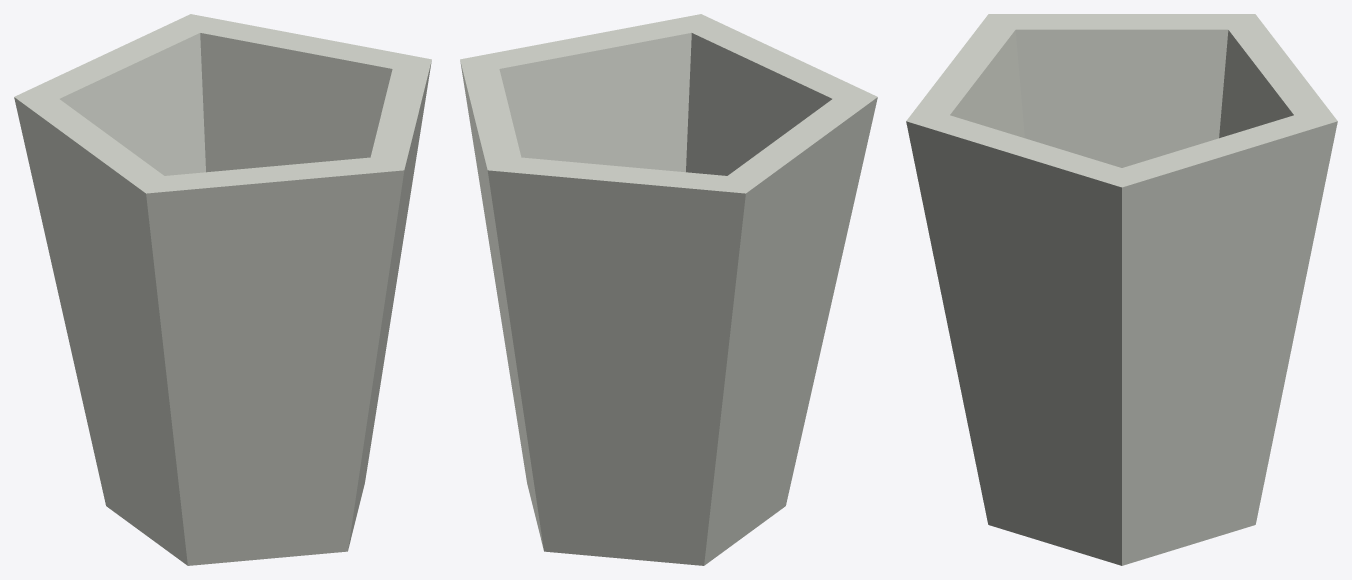
Rendered from cup_empty_1.fbx.
The picture shows the model from 3 angles, left to right: view 1: azimuth 30°, elevation 25°; view 2: azimuth 150°, elevation 25°; view 3: azimuth 270°, elevation 25°; orthographic projection.
Parts seen in each view (by area): view 1: cup_empty_1; view 2: cup_empty_1; view 3: cup_empty_1.
Boxes of the visible parts, x1=… form: cup_empty_1: x1=14, y1=14, x2=431, y2=565; cup_empty_1: x1=460, y1=14, x2=877, y2=565; cup_empty_1: x1=906, y1=14, x2=1337, y2=565.
Bounding box in the file's own units: 0.6046 × 0.6685 × 0.6358.
